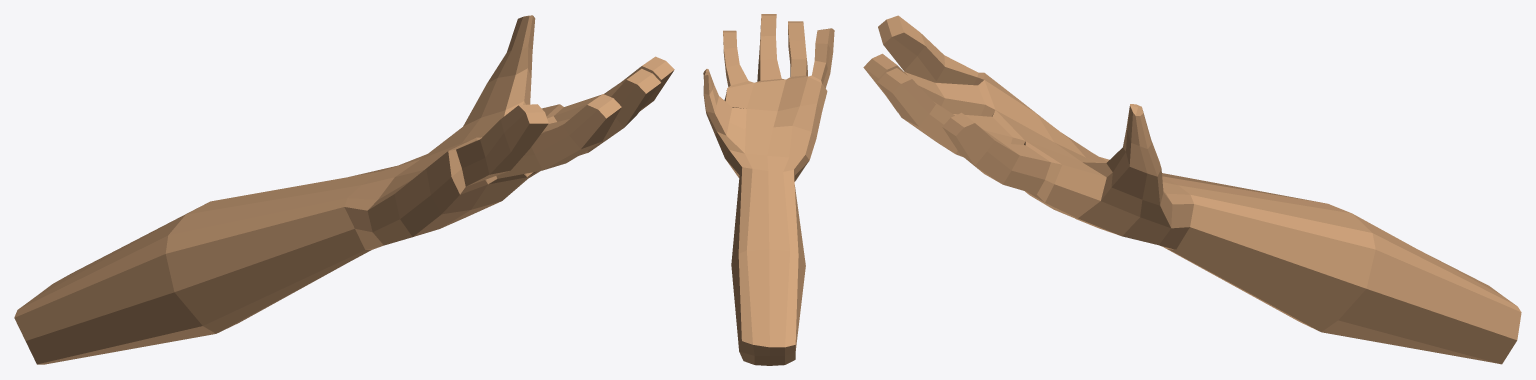
The model's file is handANİM.fbx.
3 views of the same model, side by side, from view 1: azimuth 30°, elevation 25°; view 2: azimuth 150°, elevation 25°; view 3: azimuth 270°, elevation 25° (orthographic). The views are drawn at different scales.
Visible parts, largest first — view 1: hand; view 2: hand; view 3: hand.
Boxes of the visible parts, x1,y1,x2,y2 form: hand: [14, 15, 674, 364]; hand: [703, 14, 834, 365]; hand: [863, 15, 1521, 364].
Size of the model in its own units: 466 by 465 by 659.
